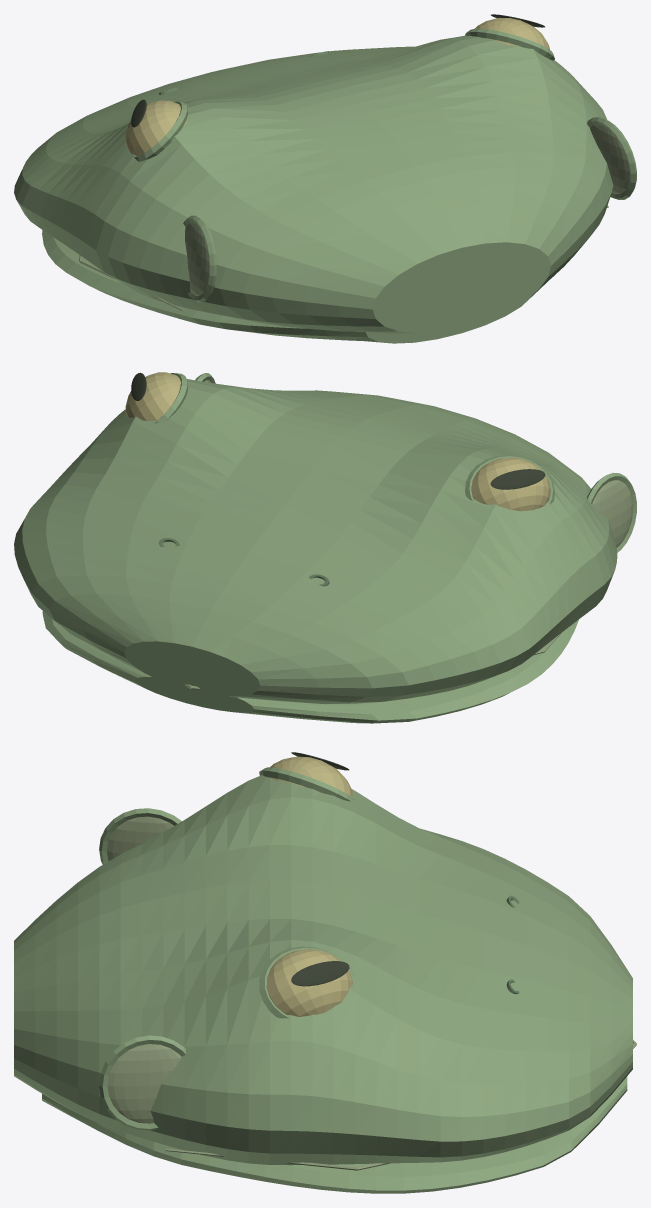
File: frog_head_01.glb
The picture shows the model from 3 angles, top to bottom: view 1: azimuth 30°, elevation 25°; view 2: azimuth 150°, elevation 25°; view 3: azimuth 270°, elevation 25°; orthographic projection. The views are drawn at different scales.
Visible parts, largest first — view 1: Cranium, Jaw, EyeL, TympanumR, TympanumL, EyeR, TympanicRimR, TympanicRimL, OrbitalLidR, OrbitalLidL; view 2: Cranium, Jaw, EyeL, EyeR, TympanumL, PupilL, TympanicRimL, OrbitalLidL; view 3: Cranium, Jaw, TympanumR, EyeR, TympanicRimR, TympanumL, EyeL, PupilR, TympanicRimL, OrbitalLidL, OrbitalLidR.
Part boxes in pixels (<box>): Cranium: <box>14,35,613,333</box>; Jaw: <box>42,230,547,343</box>; EyeL: <box>125,100,187,156</box>; TympanumR: <box>590,124,629,193</box>; TympanumL: <box>185,222,209,295</box>; EyeR: <box>475,18,549,49</box>; TympanicRimR: <box>587,117,636,199</box>; TympanicRimL: <box>183,215,216,302</box>; OrbitalLidR: <box>465,28,554,60</box>; OrbitalLidL: <box>134,101,187,161</box>; Cranium: <box>14,379,617,704</box>; Jaw: <box>42,611,578,723</box>; EyeL: <box>471,457,550,511</box>; EyeR: <box>125,372,180,421</box>; TympanumL: <box>592,480,632,547</box>; PupilL: <box>490,469,545,489</box>; TympanicRimL: <box>587,472,636,552</box>; OrbitalLidL: <box>465,455,554,503</box>; Cranium: <box>14,775,632,1165</box>; Jaw: <box>42,1076,627,1193</box>; TympanumR: <box>107,1044,181,1123</box>; EyeR: <box>266,949,352,1016</box>; TympanicRimR: <box>99,1035,185,1130</box>; TympanumL: <box>107,816,173,860</box>; EyeL: <box>269,756,352,796</box>; PupilR: <box>291,961,349,986</box>; TympanicRimL: <box>99,808,181,864</box>; OrbitalLidL: <box>259,767,354,801</box>; OrbitalLidR: <box>259,946,353,1018</box>.
Size of the model in its own units: 0.6 by 0.2331 by 0.5537.
